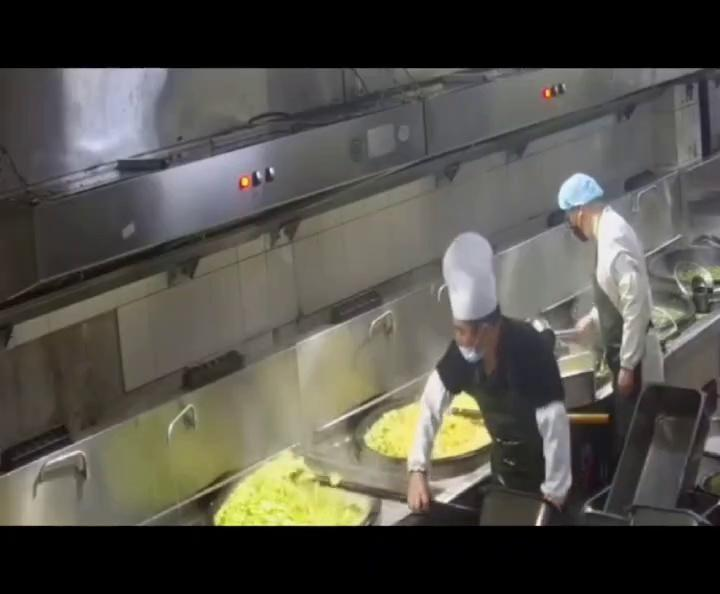mask: (453, 321, 491, 358)
